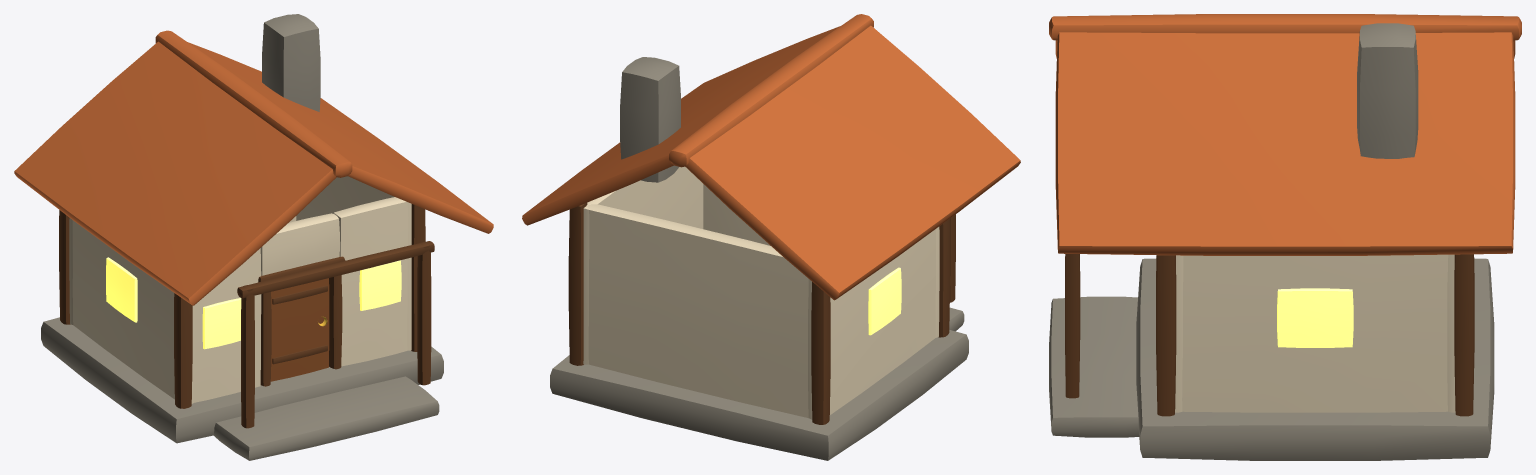
Rendered from cottage.glb.
3 views of the same model, side by side, from view 1: azimuth 30°, elevation 25°; view 2: azimuth 150°, elevation 25°; view 3: azimuth 270°, elevation 25° (orthographic). The views are drawn at different scales.
Visible parts, largest first — view 1: CottageBody, DoorPivot; view 2: CottageBody; view 3: CottageBody.
Part boxes in pixels (x1,y1,x2,y2): CottageBody: (14,14,493,460); DoorPivot: (270,278,329,381); CottageBody: (522,14,1020,460); CottageBody: (1049,14,1521,460).
Size of the model in its own units: 5.41 by 5.12 by 5.55.
